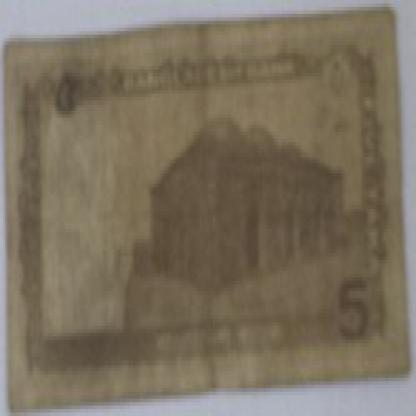Five Taka: (334, 267, 373, 354), (53, 59, 82, 135)
